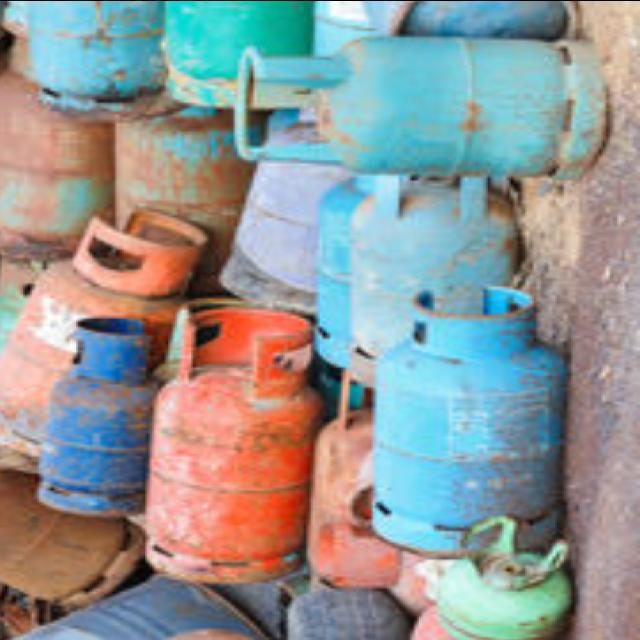cylinder: (235, 36, 608, 179), (373, 283, 565, 552), (144, 304, 324, 583), (38, 318, 154, 516)
